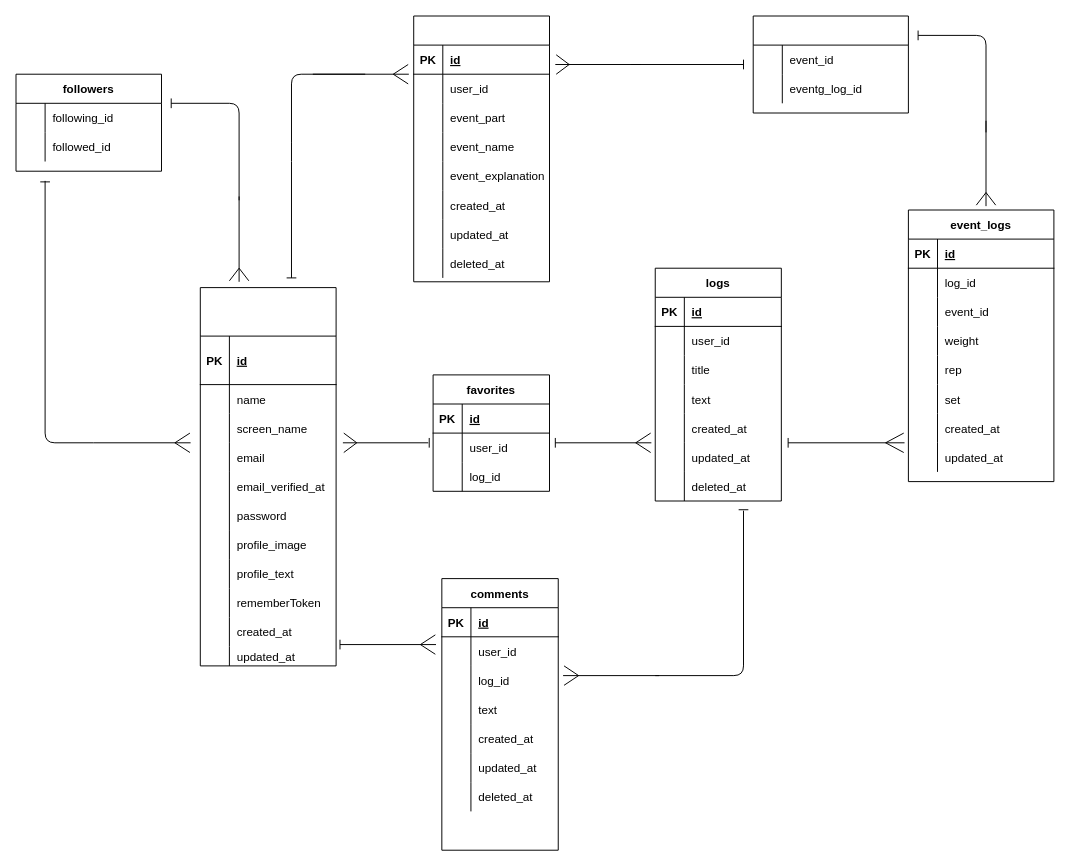
Some shapes in this 1070 by 866 pixel diagram are drawn without their labels. The shapes that lost their labels are listed below. From the top down, each one's box as (x1, y1, x2, y2) in pixels, then its label:
(752, 15, 908, 113): event_logs_events
(413, 15, 550, 282): events
(199, 287, 336, 666): users
